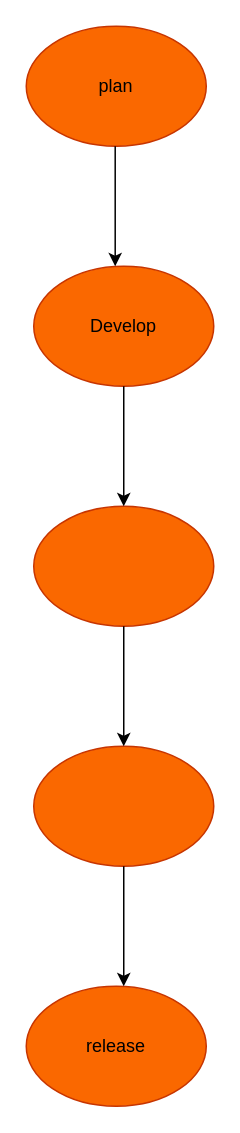
Some shapes in this 240 by 1133 pixel diagram are drawn without their labels. Each missing label, with the box of its shape:
Build: (32, 505, 214, 626)
text: (32, 745, 214, 866)
